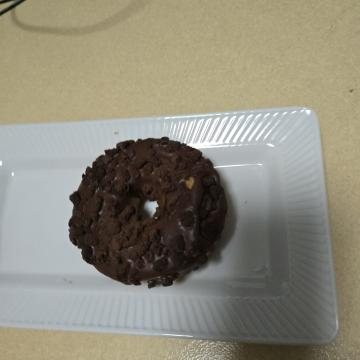doughnut: (119, 132, 300, 308)
